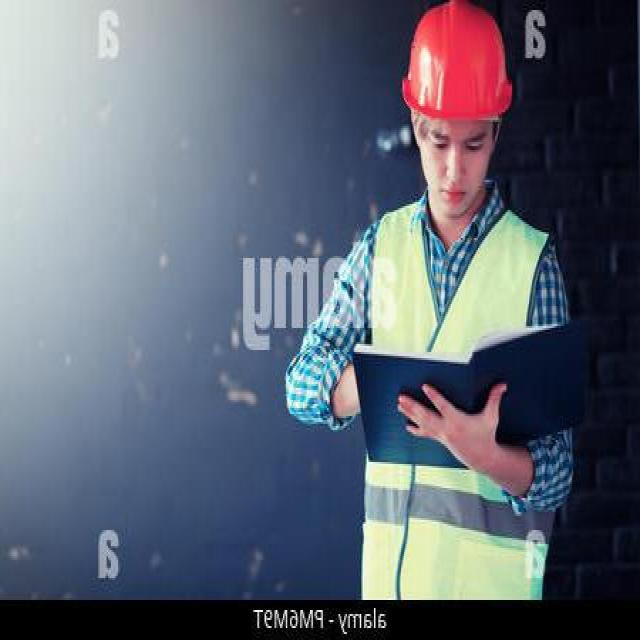Reflective-Jacket: (350, 196, 562, 592)
Safety-Helmet: (398, 2, 512, 128)
